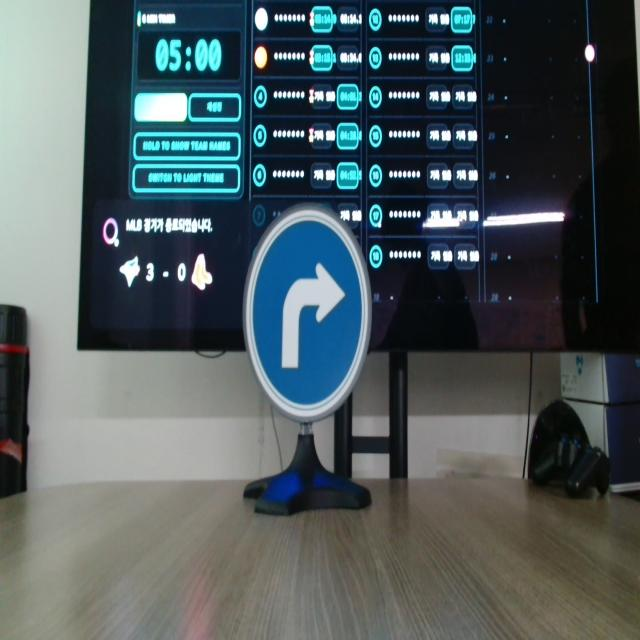right_dierection: (241, 204, 373, 421)
